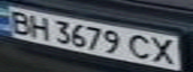3: (48, 17, 72, 46)
6: (66, 21, 87, 48)
7: (81, 25, 106, 52)
9: (103, 27, 127, 56)
B: (3, 8, 33, 36)
C: (127, 32, 157, 61)
H: (24, 12, 54, 41)
X: (145, 35, 181, 66)
